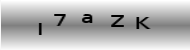7: (52, 12, 66, 28)
K: (135, 16, 152, 30)
Z: (109, 13, 125, 28)
a: (80, 13, 94, 25)
l: (37, 21, 43, 36)
